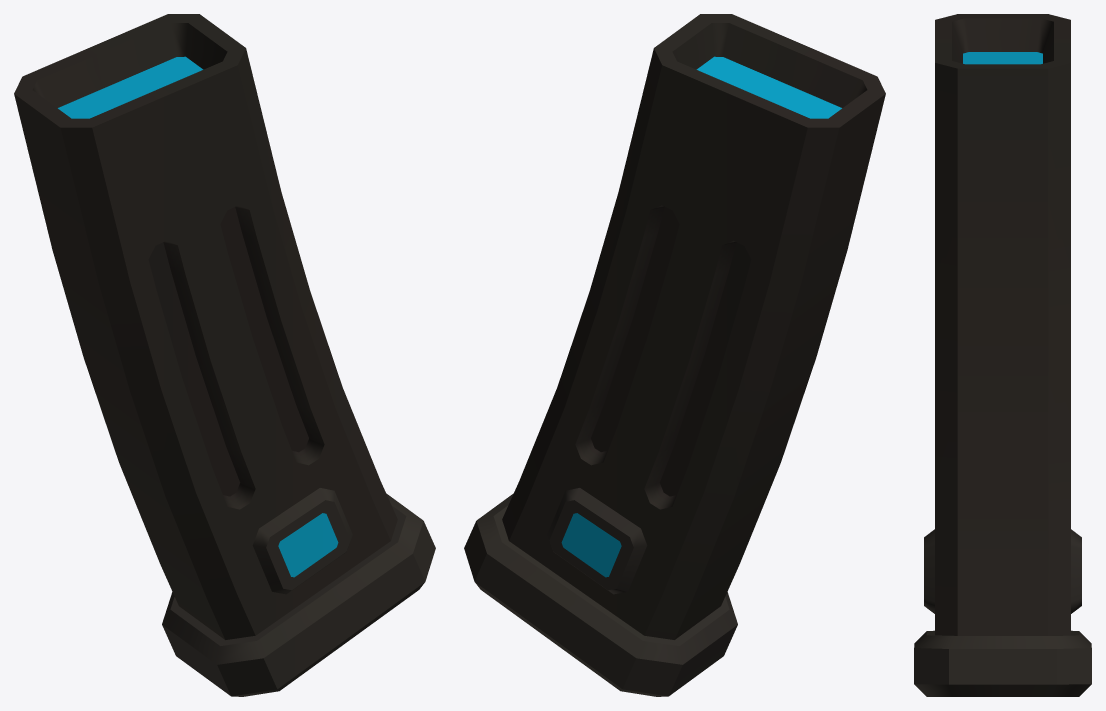
The model's file is SMG3_Magazine.fbx.
The picture shows the model from 3 angles, left to right: view 1: azimuth 30°, elevation 25°; view 2: azimuth 150°, elevation 25°; view 3: azimuth 270°, elevation 25°; orthographic projection. The views are drawn at different scales.
Parts seen in each view (by area): view 1: SMG3_Magazine; view 2: SMG3_Magazine; view 3: SMG3_Magazine.
Part boxes in pixels (x1,y1,x2,y2): SMG3_Magazine: (14, 14, 435, 696); SMG3_Magazine: (464, 14, 885, 696); SMG3_Magazine: (914, 14, 1091, 696).
Size of the model in its own units: 9.04 by 15.06 by 3.85.
